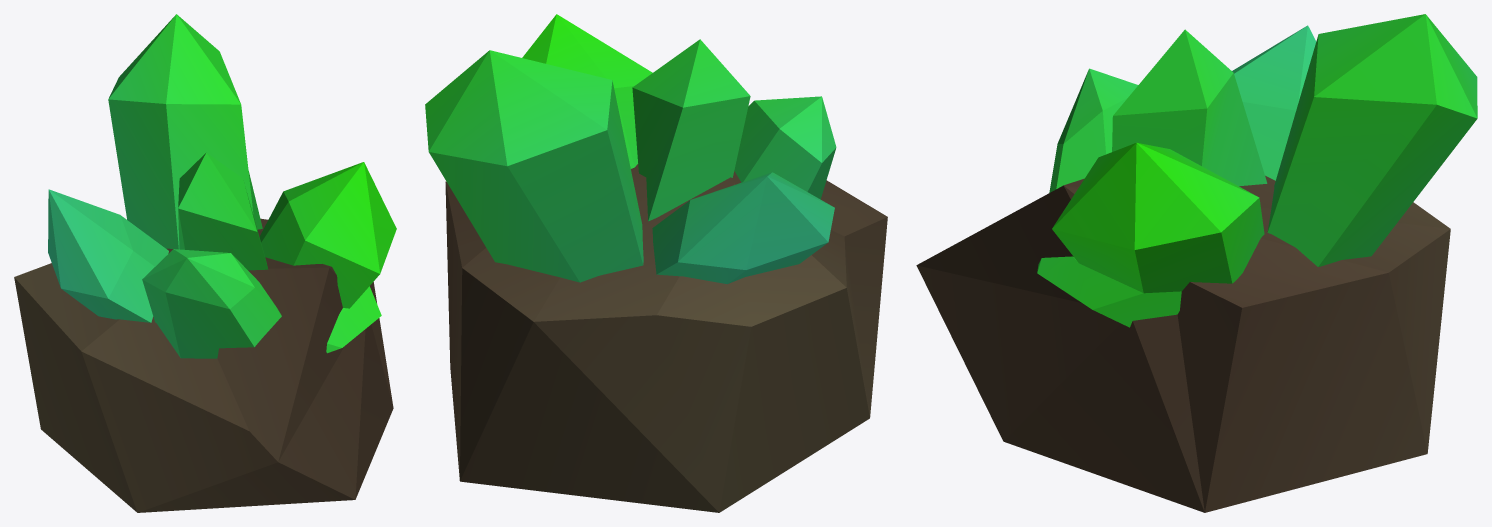
The model's file is Oceanstone.fbx.
3 renders of one model, left to right at view 1: azimuth 30°, elevation 25°; view 2: azimuth 150°, elevation 25°; view 3: azimuth 270°, elevation 25°, orthographic. The views are drawn at different scales.
Visible parts, largest first — view 1: OCEANSTONE GEM.001; view 2: OCEANSTONE GEM.001; view 3: OCEANSTONE GEM.001.
Part boxes in pixels (left/top/right/bottom): OCEANSTONE GEM.001: left=14, top=14, right=396, bottom=512; OCEANSTONE GEM.001: left=425, top=14, right=887, bottom=512; OCEANSTONE GEM.001: left=916, top=14, right=1477, bottom=512.
Size of the model in its own units: 165 by 175 by 209.
2 materials, 2 textured.
